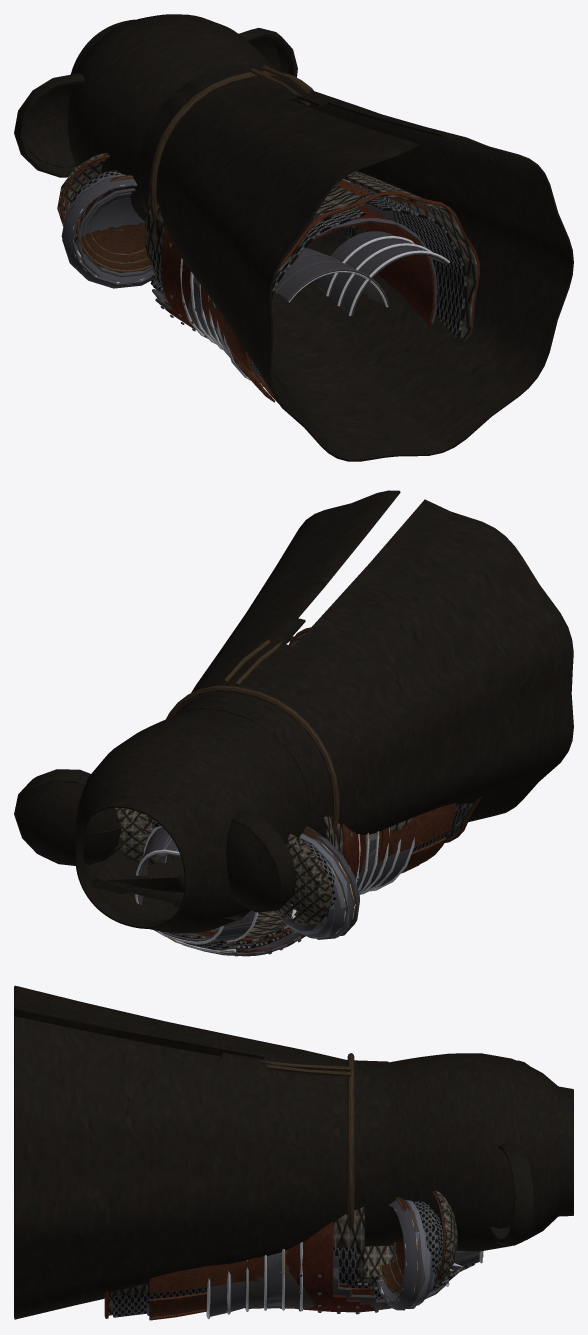
File: items_armor_c.glb
The picture shows the model from 3 angles, top to bottom: view 1: azimuth 30°, elevation 25°; view 2: azimuth 150°, elevation 25°; view 3: azimuth 270°, elevation 25°; orthographic projection. The views are drawn at different scales.
Visible parts, largest first — view 1: armor_bile_shroud_fauld, armor_bile_shroud, armor_silt_hauberk_fauld, armor_wick_coat_fauld, armor_bile_shroud_pauldron_R, armor_ash_brigandine_fauld, armor_tanners_vest_pauldron_R, armor_spire_harness_tasset_L, armor_ash_brigandine_pauldron_R, armor_spire_harness_pauldron_R, armor_tanners_vest_fauld, armor_ash_brigandine (+8 smaller); view 2: armor_bile_shroud_fauld, armor_bile_shroud, armor_bile_shroud_pauldron_L, armor_bile_shroud_pauldron_R, armor_spire_harness, armor_wick_coat_pauldron_R, armor_tanners_vest_fauld, armor_spire_harness_pauldron_R, armor_wick_coat, armor_grave_plate, armor_wick_coat_pauldron_L, armor_parish_plate_pauldron_R (+3 smaller); view 3: armor_bile_shroud_fauld, armor_bile_shroud, armor_tanners_vest_fauld, armor_ash_brigandine, armor_bile_shroud_pauldron_L, armor_wick_coat, armor_grave_plate, armor_spire_harness_pauldron_L, armor_spire_harness, armor_wick_coat_pauldron_L, armor_spire_harness_fauld, armor_silt_hauberk_pauldron_L (+8 smaller).
Part boxes in pixels (bbox=[...]): armor_bile_shroud_fauld: bbox=[138, 64, 573, 461]; armor_bile_shroud: bbox=[67, 14, 303, 221]; armor_silt_hauberk_fauld: bbox=[248, 179, 466, 383]; armor_wick_coat_fauld: bbox=[209, 171, 479, 376]; armor_bile_shroud_pauldron_R: bbox=[14, 73, 84, 177]; armor_ash_brigandine_fauld: bbox=[309, 206, 437, 325]; armor_tanners_vest_pauldron_R: bbox=[76, 175, 150, 272]; armor_spire_harness_tasset_L: bbox=[316, 231, 424, 314]; armor_ash_brigandine_pauldron_R: bbox=[77, 188, 153, 281]; armor_spire_harness_pauldron_R: bbox=[61, 175, 155, 288]; armor_tanners_vest_fauld: bbox=[203, 178, 427, 403]; armor_ash_brigandine: bbox=[160, 224, 362, 337]; armor_bile_shroud_fauld: bbox=[166, 490, 573, 838]; armor_bile_shroud: bbox=[75, 709, 310, 933]; armor_bile_shroud_pauldron_L: bbox=[14, 769, 122, 865]; armor_bile_shroud_pauldron_R: bbox=[226, 811, 296, 912]; armor_spire_harness: bbox=[136, 826, 379, 956]; armor_wick_coat_pauldron_R: bbox=[275, 833, 331, 925]; armor_tanners_vest_fauld: bbox=[378, 803, 455, 873]; armor_spire_harness_pauldron_R: bbox=[274, 829, 359, 939]; armor_wick_coat: bbox=[146, 816, 343, 946]; armor_grave_plate: bbox=[135, 827, 389, 955]; armor_wick_coat_pauldron_L: bbox=[115, 807, 159, 864]; armor_parish_plate_pauldron_R: bbox=[275, 834, 354, 939]; armor_bile_shroud_fauld: bbox=[14, 985, 388, 1319]; armor_bile_shroud: bbox=[388, 1053, 573, 1251]; armor_tanners_vest_fauld: bbox=[149, 1257, 258, 1320]; armor_ash_brigandine: bbox=[267, 1238, 378, 1314]; armor_bile_shroud_pauldron_L: bbox=[489, 1143, 540, 1245]; armor_wick_coat: bbox=[333, 1207, 483, 1287]; armor_grave_plate: bbox=[245, 1242, 481, 1311]; armor_spire_harness_pauldron_L: bbox=[376, 1198, 463, 1310]; armor_spire_harness: bbox=[264, 1242, 482, 1310]; armor_wick_coat_pauldron_L: bbox=[432, 1190, 457, 1285]; armor_spire_harness_fauld: bbox=[208, 1271, 245, 1318]; armor_silt_hauberk_pauldron_L: bbox=[413, 1201, 443, 1280].
Bounding box in the file's own units: 0.7931 × 0.7882 × 1.33.
14 materials, 14 textured.
